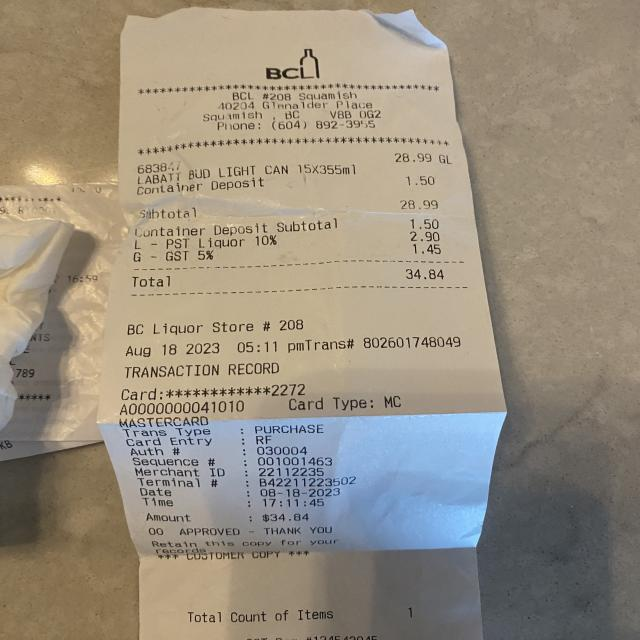item: (136, 174, 447, 193)
store_name: (219, 88, 261, 103)
total_amount: (128, 267, 460, 291)
transaction_date: (119, 338, 228, 362)
